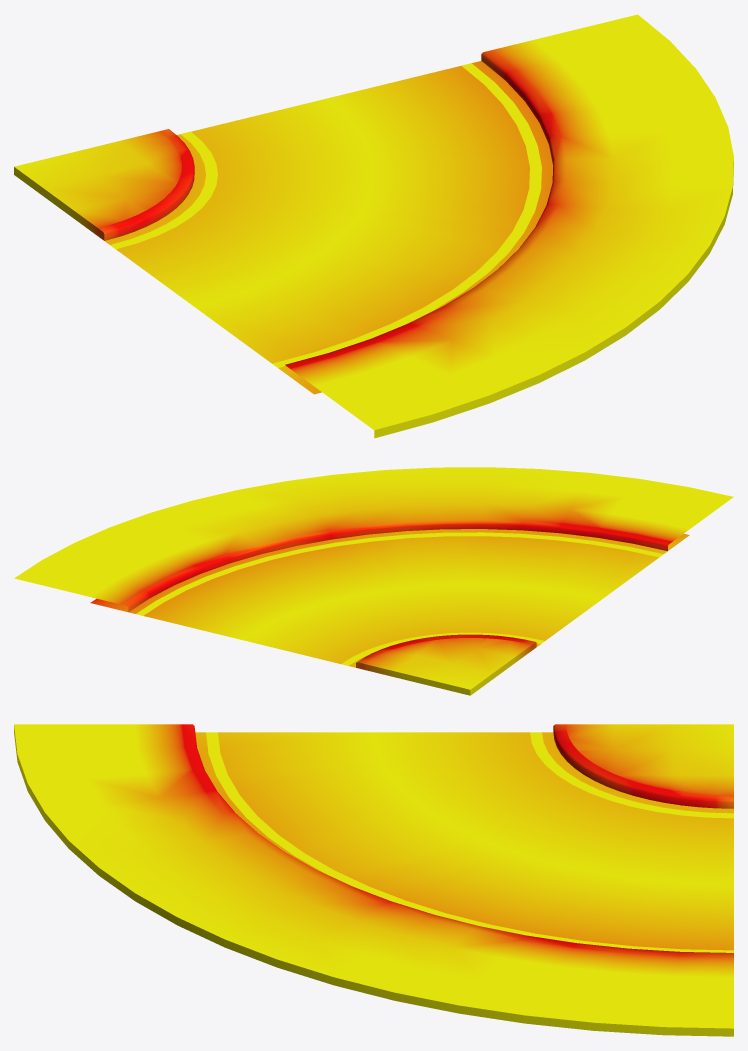
Rendered from street-curve-2lane.glb.
The picture shows the model from 3 angles, top to bottom: view 1: azimuth 30°, elevation 25°; view 2: azimuth 150°, elevation 25°; view 3: azimuth 270°, elevation 25°; orthographic projection. The views are drawn at different scales.
Visible parts, largest first — view 1: Street_Curve_2Lane; view 2: Street_Curve_2Lane; view 3: Street_Curve_2Lane.
Part boxes in pixels (bbox=[...]): Street_Curve_2Lane: bbox=[14, 14, 733, 438]; Street_Curve_2Lane: bbox=[14, 467, 733, 695]; Street_Curve_2Lane: bbox=[14, 724, 733, 1036].
Bounding box in the file's own units: 12 × 0.15 × 12.
3 materials, 3 textured.
